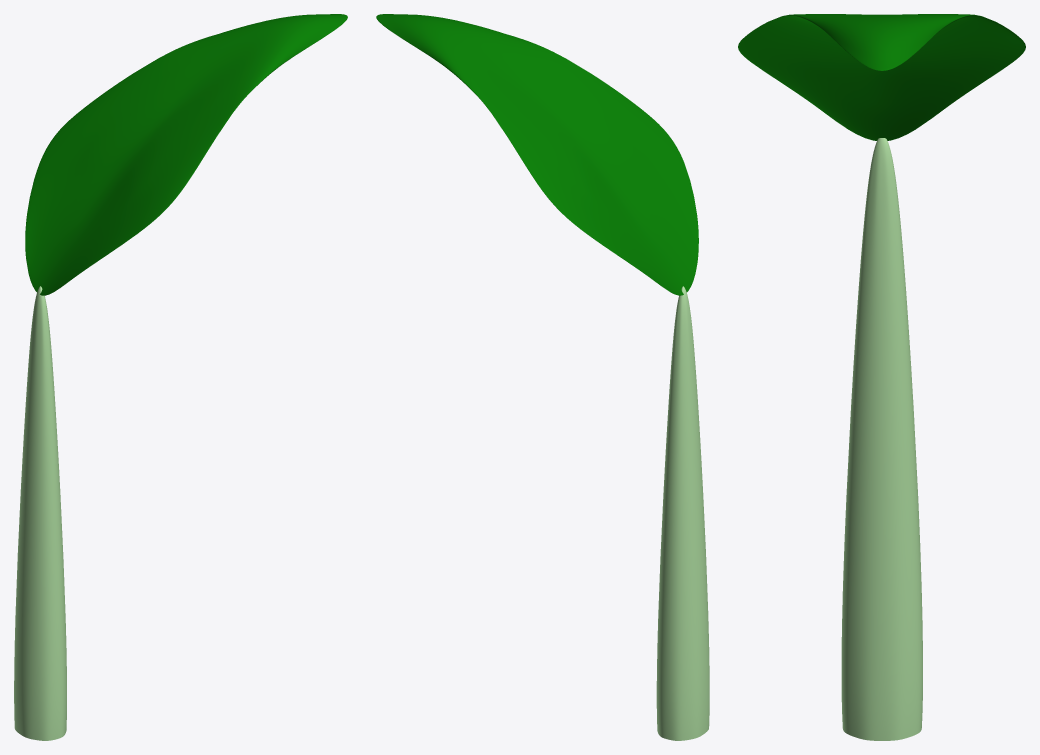
3 views of the same model, side by side, from view 1: azimuth 30°, elevation 25°; view 2: azimuth 150°, elevation 25°; view 3: azimuth 270°, elevation 25° (orthographic). The views are drawn at different scales.
Parts seen in each view (by area): view 1: Body5, Body4; view 2: Body5, Body4; view 3: Body4, Body5.
Boxes of the visible parts, box(x1,y1,x2,y2) form: Body5: box(25, 14, 347, 295); Body4: box(14, 286, 66, 740); Body5: box(376, 14, 698, 295); Body4: box(656, 286, 709, 740); Body4: box(841, 138, 922, 740); Body5: box(738, 14, 1025, 140).
Bounding box in the file's own units: 10.44 × 19.66 × 5.92.
